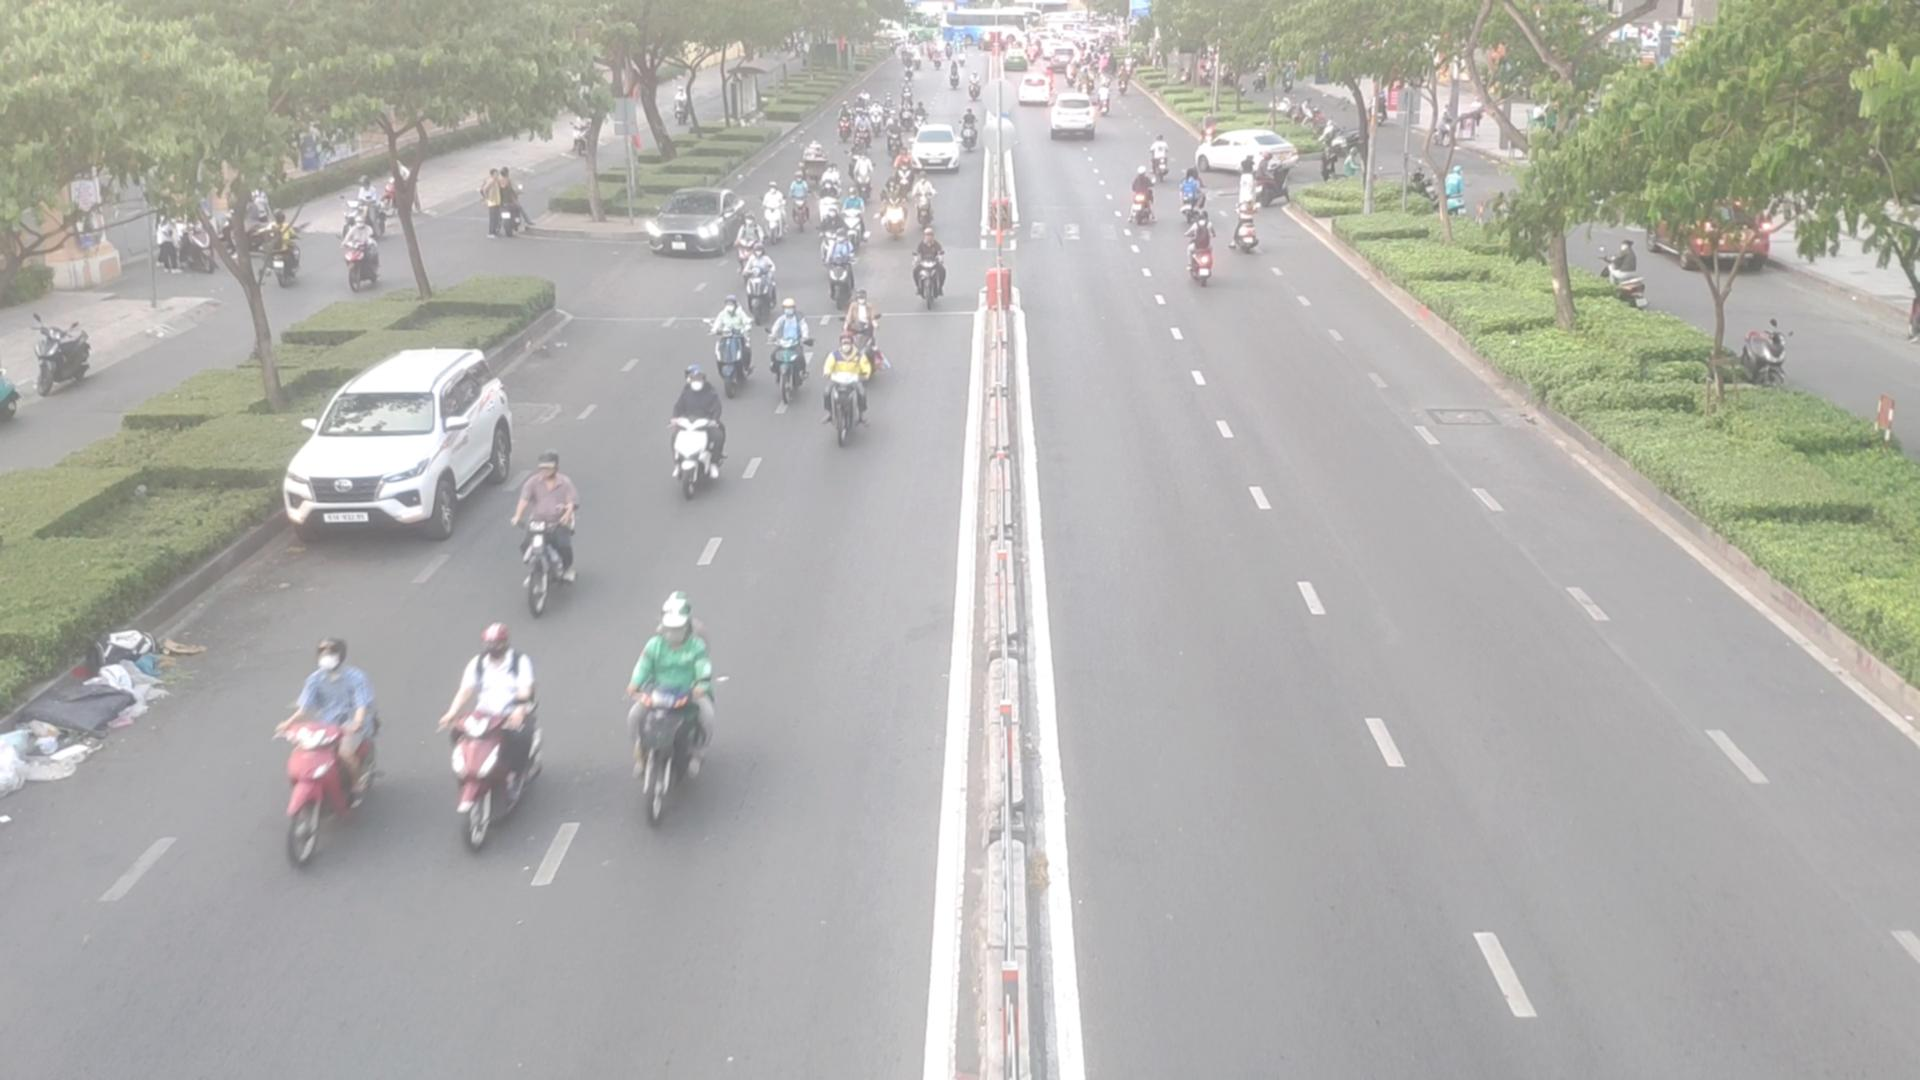car: (281, 344, 525, 537), (642, 193, 746, 261), (1195, 129, 1298, 179), (913, 124, 964, 171)
motorbike: (615, 593, 737, 824), (261, 634, 377, 866), (443, 625, 537, 851), (659, 368, 735, 502), (508, 454, 571, 609), (766, 305, 814, 410), (713, 297, 750, 386), (829, 342, 861, 446), (915, 228, 949, 313), (848, 291, 877, 371), (1183, 219, 1218, 282), (831, 237, 858, 307), (812, 207, 841, 266), (1129, 160, 1154, 225), (881, 177, 907, 237), (746, 243, 769, 314), (762, 182, 787, 245), (1179, 174, 1208, 223), (735, 211, 757, 273), (791, 171, 812, 231), (843, 186, 864, 244), (1232, 196, 1253, 248), (914, 173, 932, 231), (959, 109, 980, 156), (895, 146, 914, 191), (1151, 132, 1168, 178), (884, 120, 901, 157), (820, 181, 833, 220), (856, 154, 866, 196)
